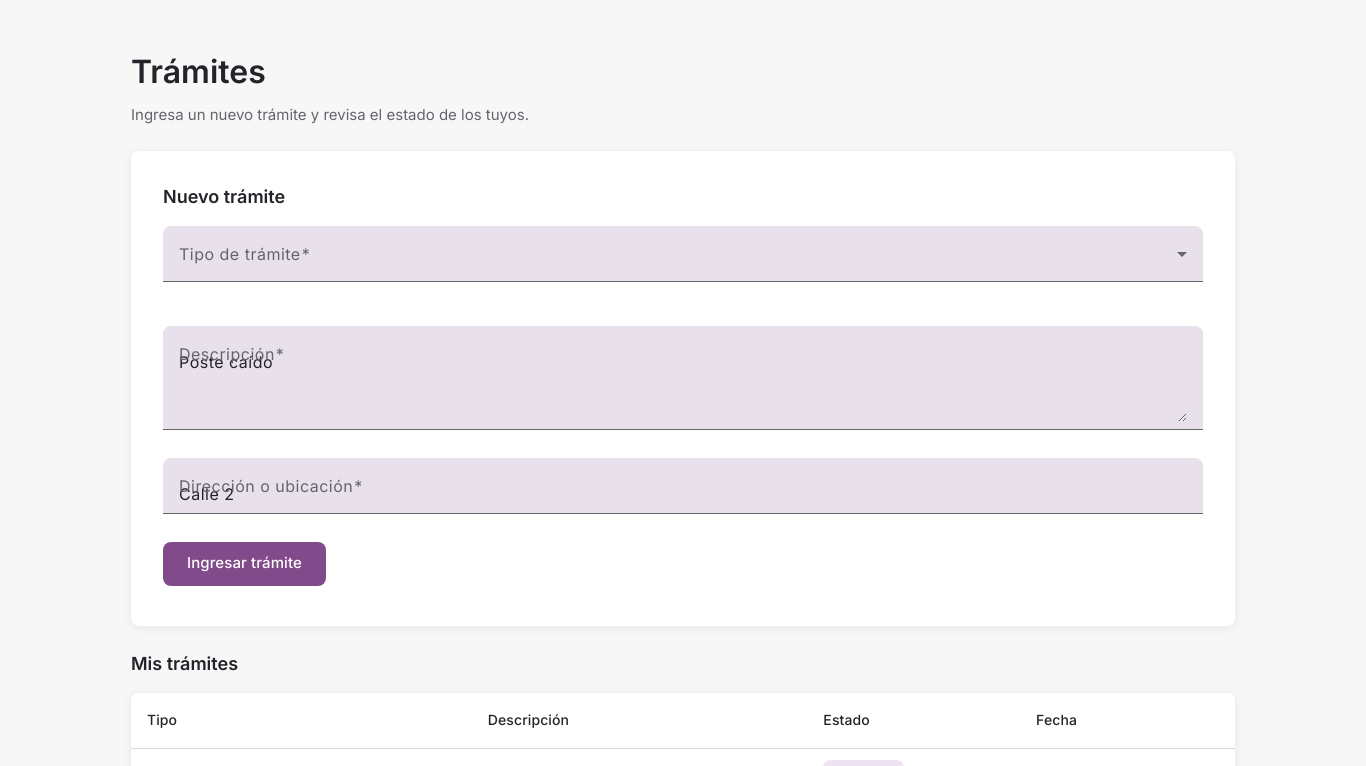
Test: RequestsComponent › catálogo real › POST 400 (Otro error de validación): conserva campos y ofrece actualizar solo para el rechazo de tipo
The image size is (1366, 766).
Click the button with class "requests__submit": [244, 564] box [163,542,326,586]
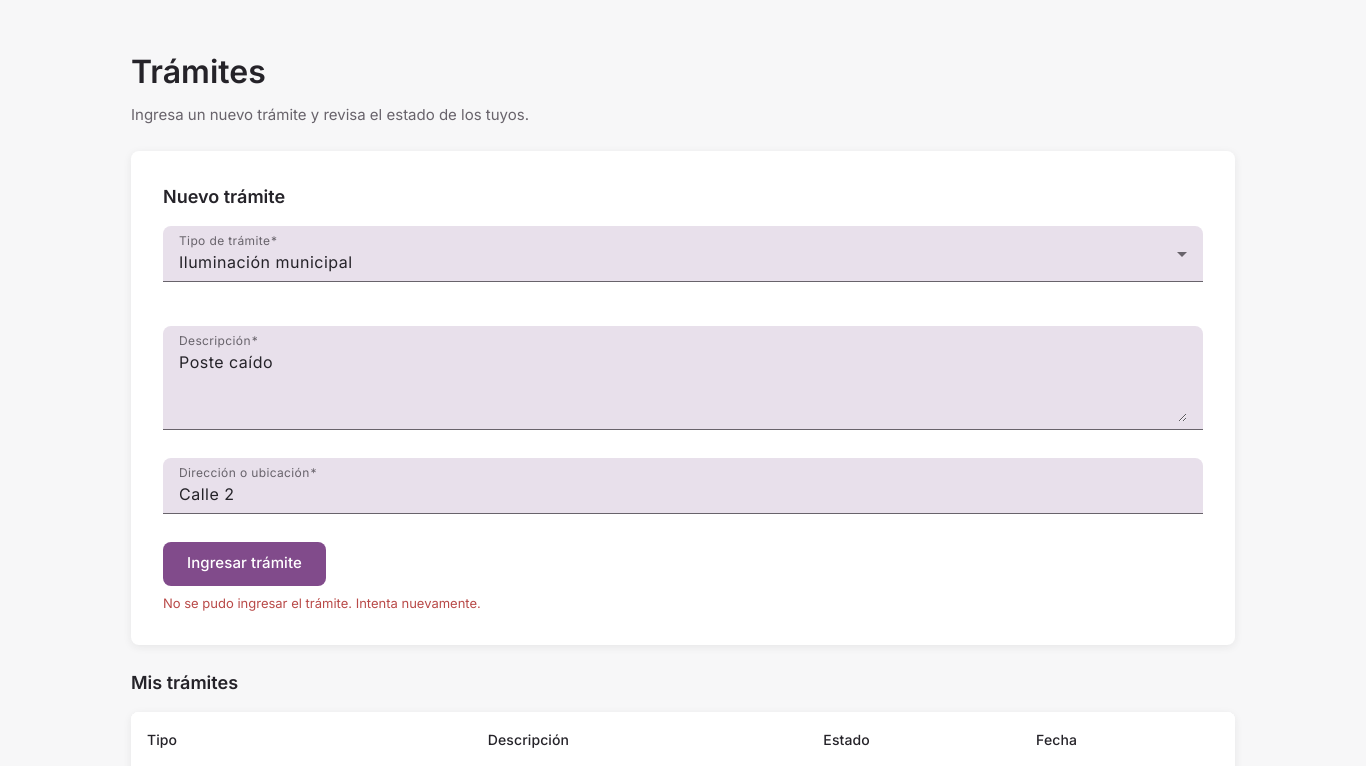
Result: the text "No se pudo ingresar el trámite. Intenta nuevamente." is shown at [163,594,481,610]
